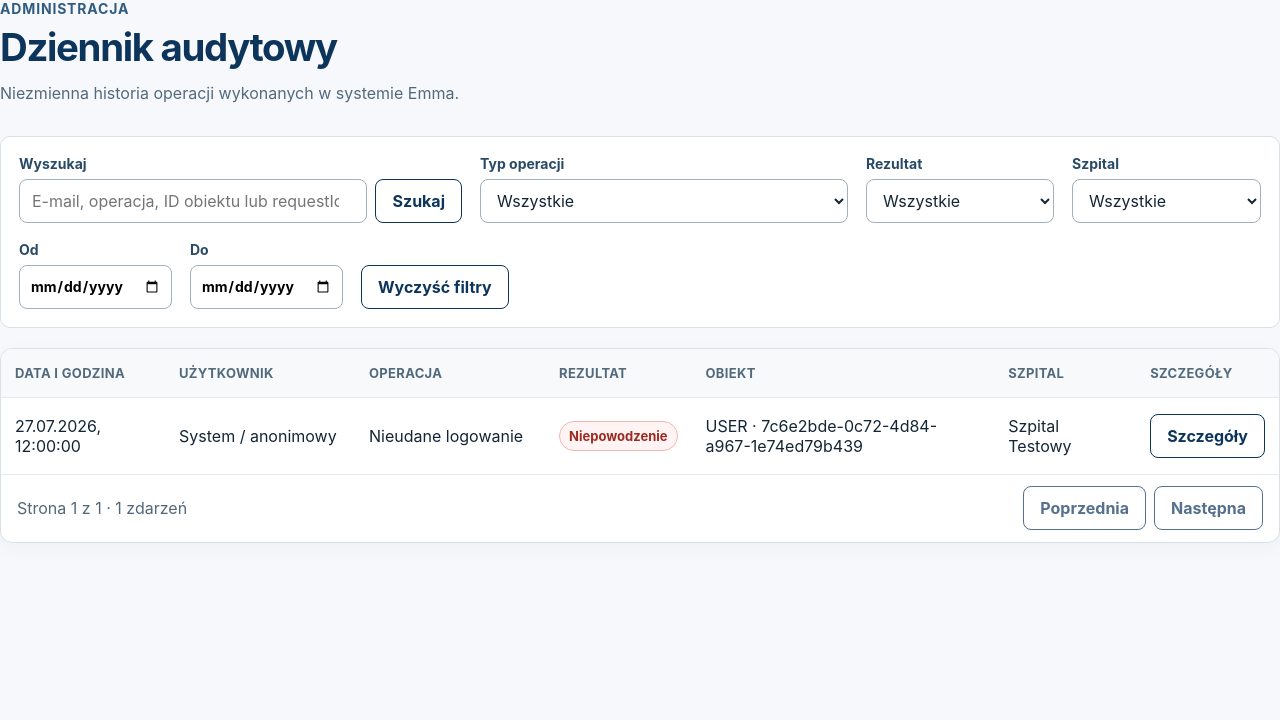
Test: Admin audit page › opens a formatted details modal
Expected: the cell "Nieudane logowanie" is shown, [355, 398, 545, 474]
Click the button "Szczegóły": (1208, 436) [1150, 414, 1265, 458]
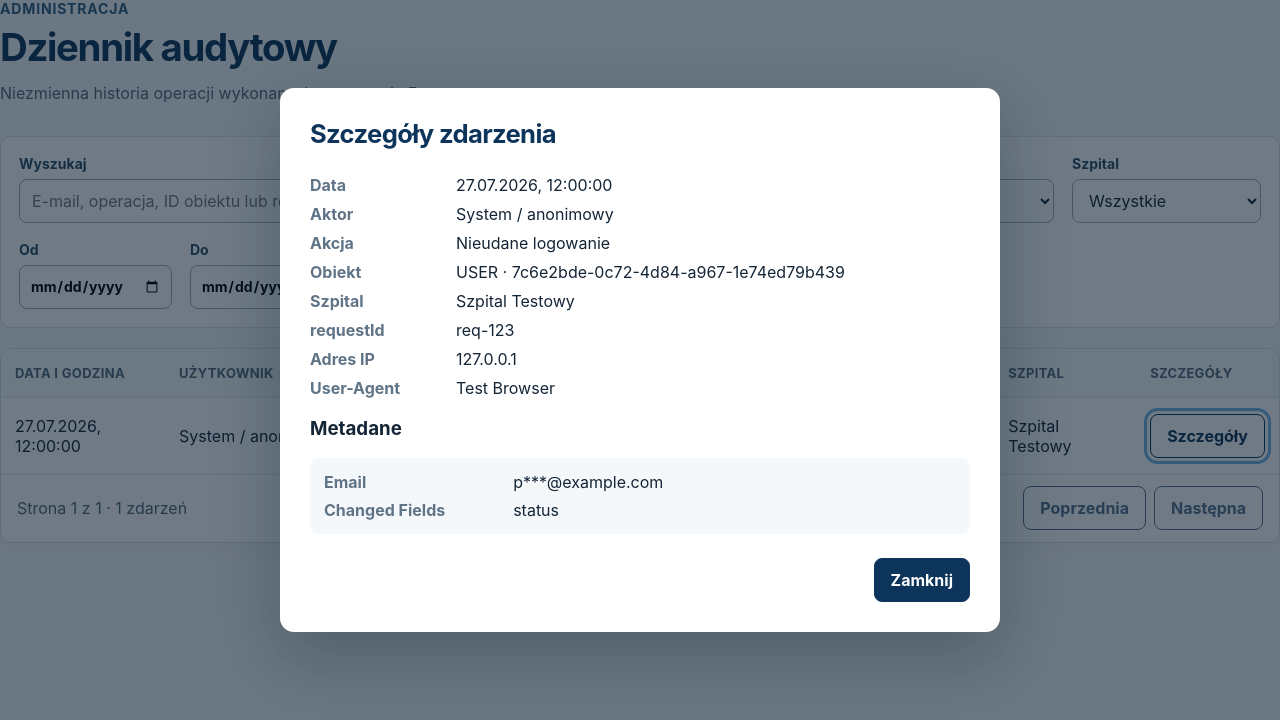
Expected: the dialog "Szczegóły zdarzenia" is shown, [280, 88, 1000, 632]
Expected: the text "req-123" is shown, [456, 320, 514, 340]
Expected: the text "p***@example.com" is shown, [513, 472, 663, 492]
